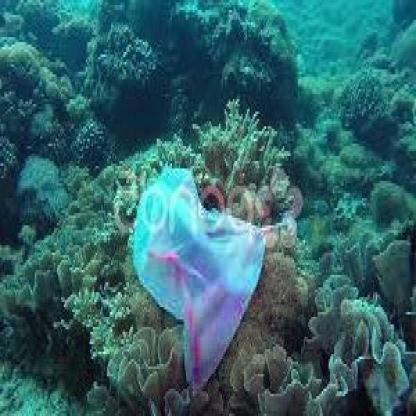pbag: (132, 166, 265, 399)
